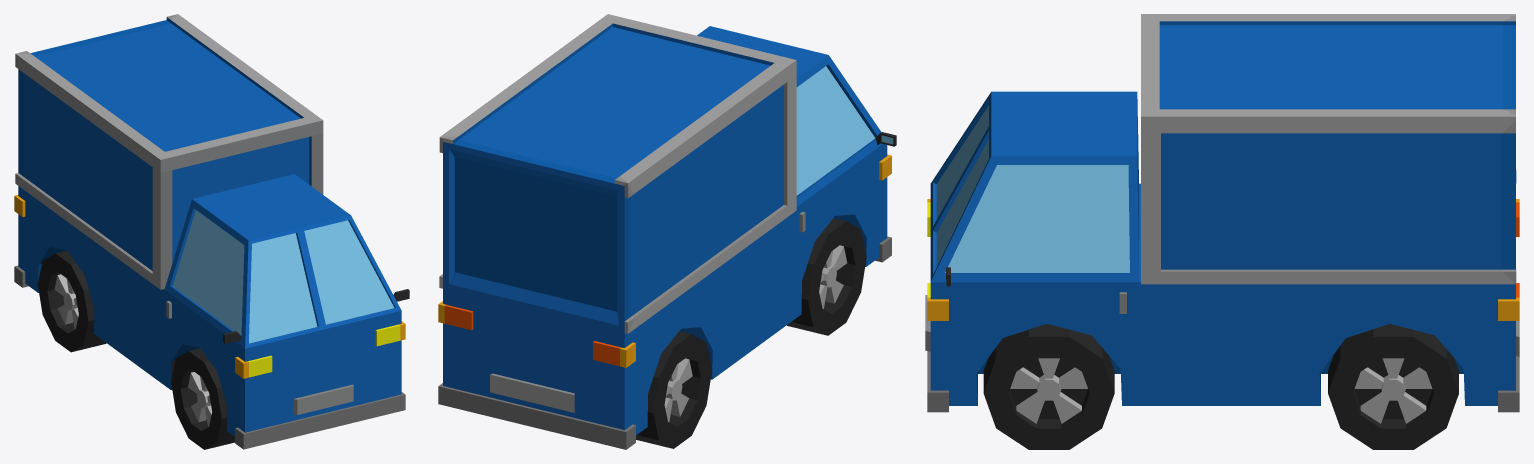
Rendered from CargoVehicle(eski).fbx.
3 views of the same model, side by side, from view 1: azimuth 30°, elevation 25°; view 2: azimuth 150°, elevation 25°; view 3: azimuth 270°, elevation 25° (orthographic). The views are drawn at different scales.
Parts seen in each view (by area): view 1: Cube; view 2: Cube; view 3: Cube.
Boxes of the visible parts, bbox=[...] form: Cube: bbox=[14, 14, 409, 449]; Cube: bbox=[438, 14, 896, 449]; Cube: bbox=[925, 14, 1519, 449].
Size of the model in its own units: 364 by 486 by 785.
Materials: 1 (1 with a texture image).
